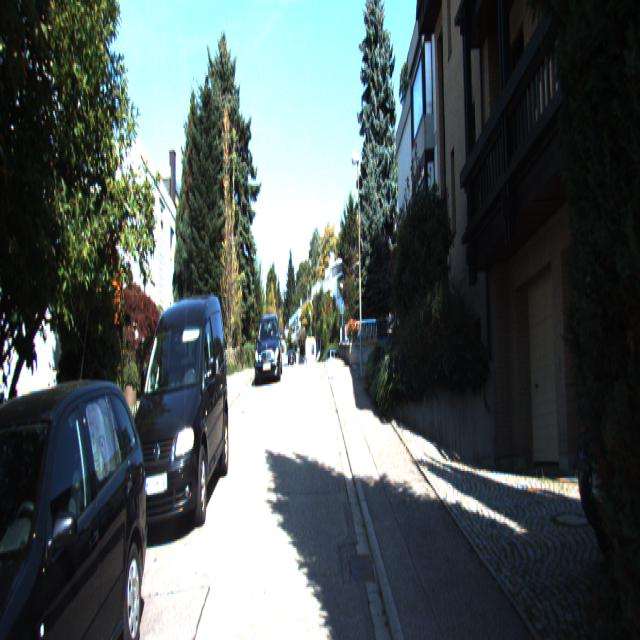Car: (0, 367, 152, 638), (121, 286, 231, 545), (252, 316, 284, 389)
